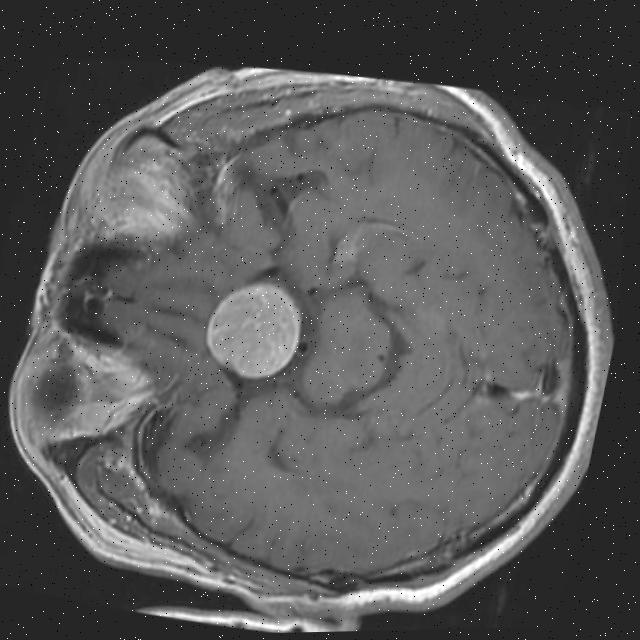Pituitary: (194, 275, 309, 387)
